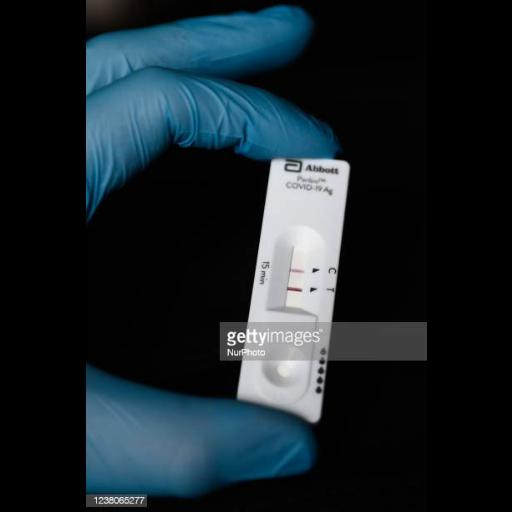Pos: (232, 155, 352, 423)
